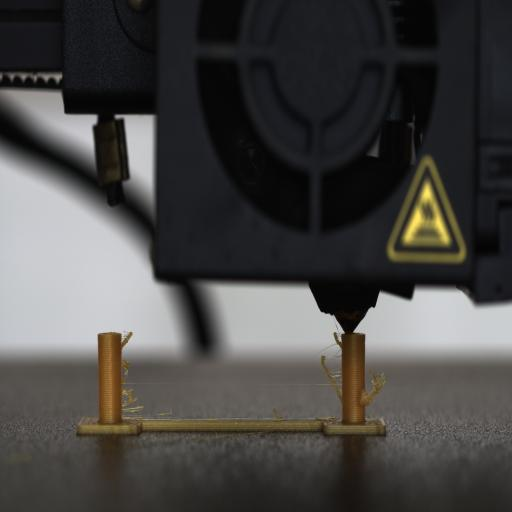stringing: (118, 322, 148, 418), (358, 361, 399, 423)
